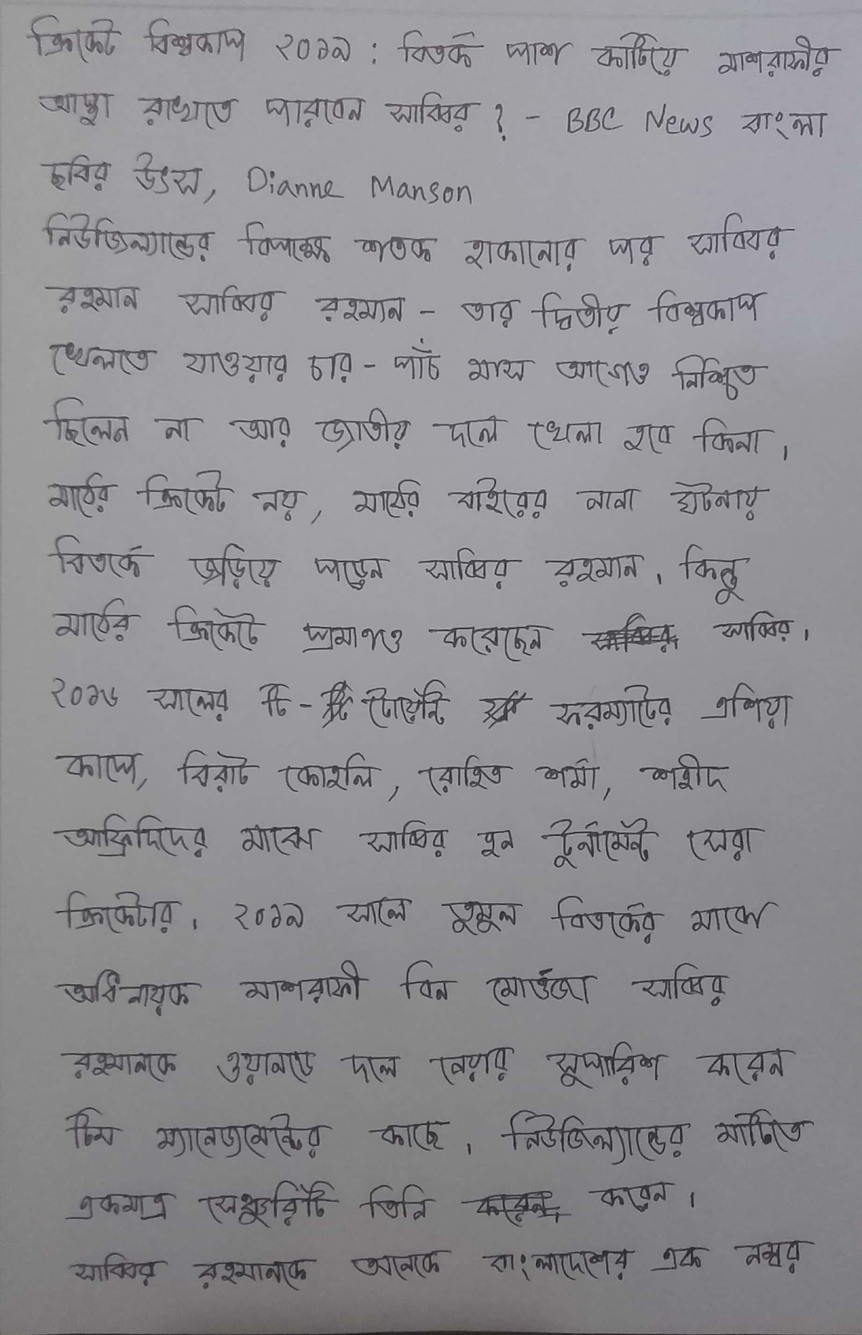line: (23, 11, 846, 84), (42, 394, 790, 467), (46, 531, 753, 606), (53, 596, 811, 664), (64, 1104, 816, 1169), (43, 211, 797, 273), (40, 88, 832, 146), (46, 340, 775, 402), (46, 677, 795, 737), (50, 813, 767, 874), (46, 279, 776, 336), (50, 888, 778, 945), (44, 467, 775, 523), (46, 957, 733, 1016), (67, 1240, 813, 1293), (57, 1037, 797, 1089), (53, 748, 733, 802), (63, 1178, 699, 1234), (42, 153, 474, 207)
